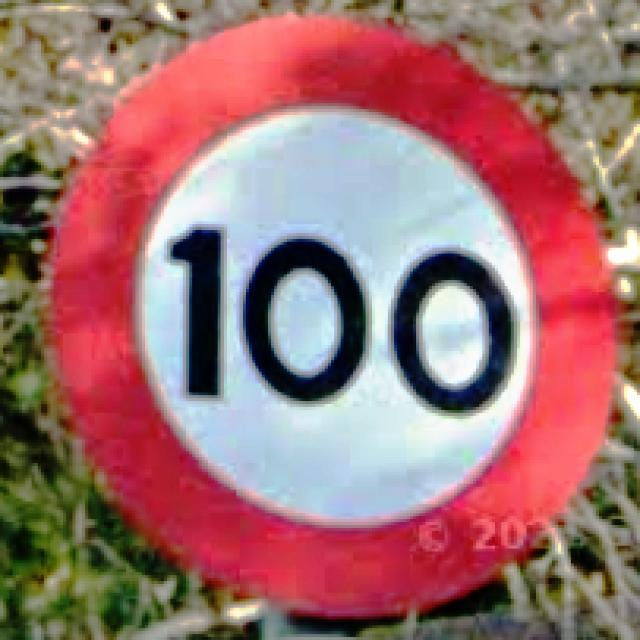max100: (38, 9, 624, 619)
